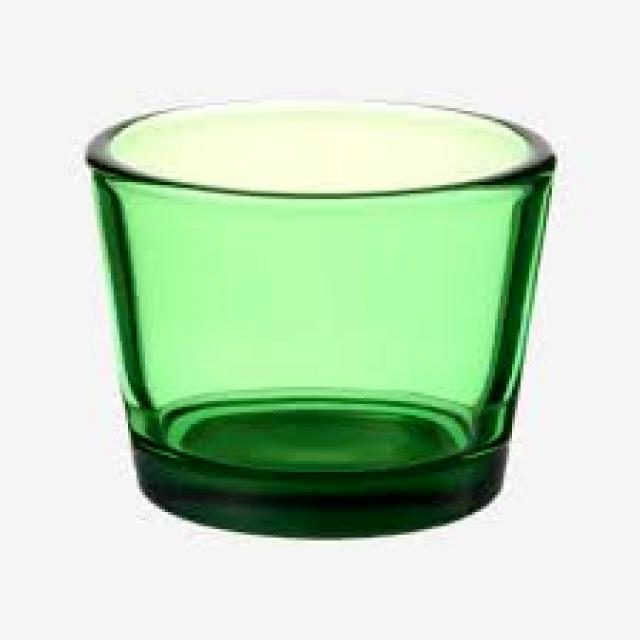Glass: (81, 94, 559, 541)
